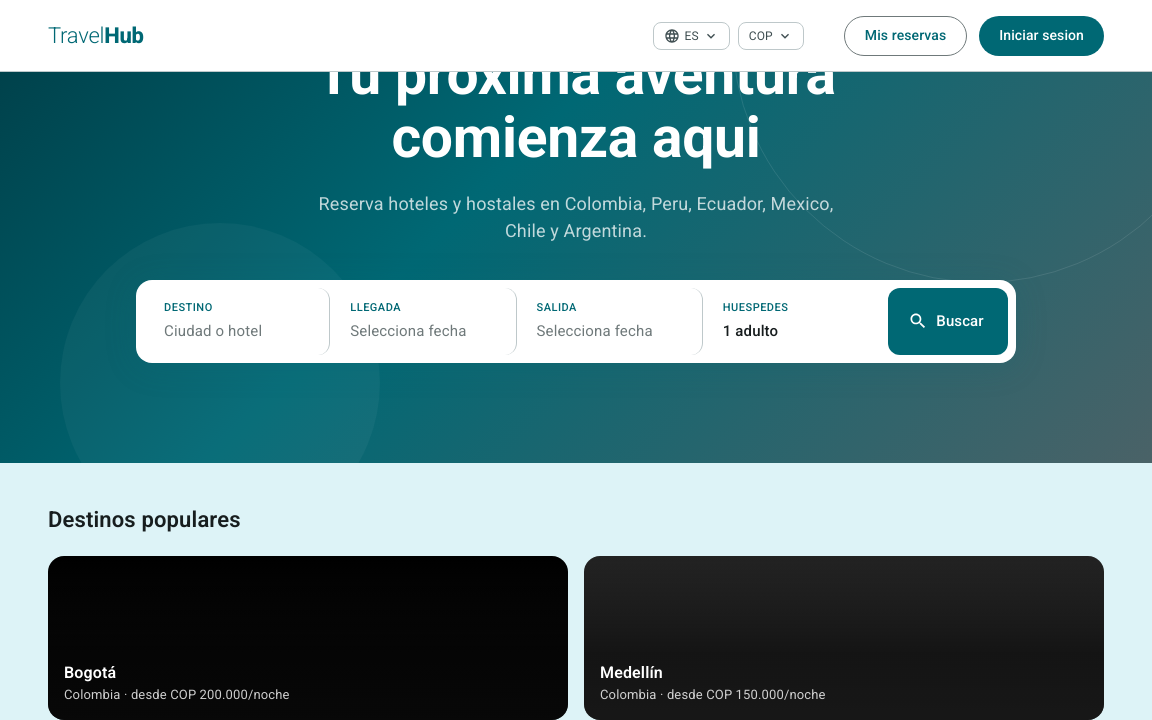
it: HomePage › clicking a destination card sets the search bar value instead of navigating
(page scrolled)
Note: Click the Bogotá destination card
Click the text "Bogotá".
click(90, 672)  # box [64,662,116,682]
(page scrolled)
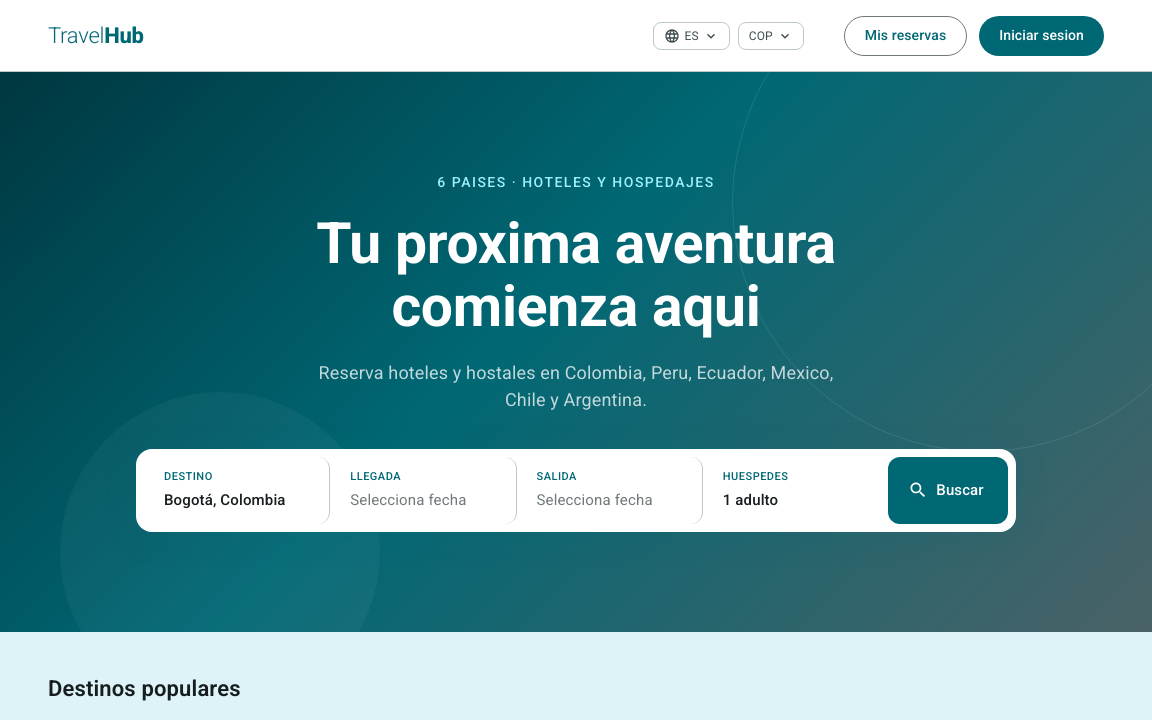
Expected: the text "Bogotá, Colombia" is shown, [164,491,286,509]
